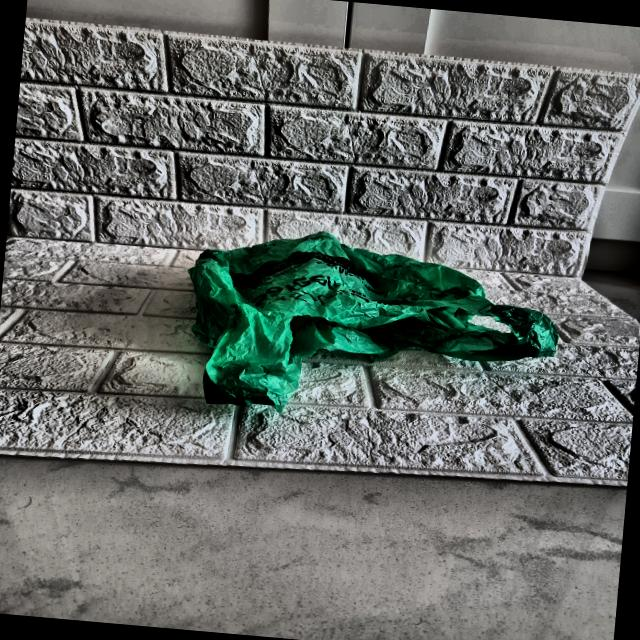plastic bag: (166, 228, 564, 442)
